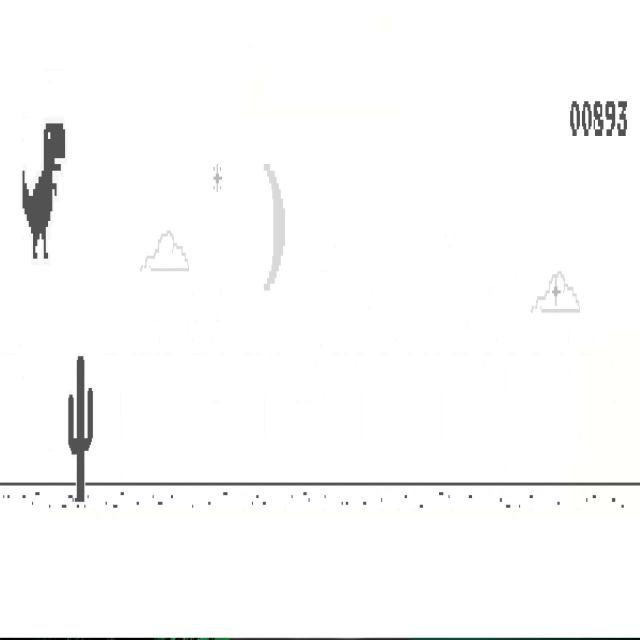cacto: (68, 354, 94, 502)
dino: (22, 123, 66, 261)
